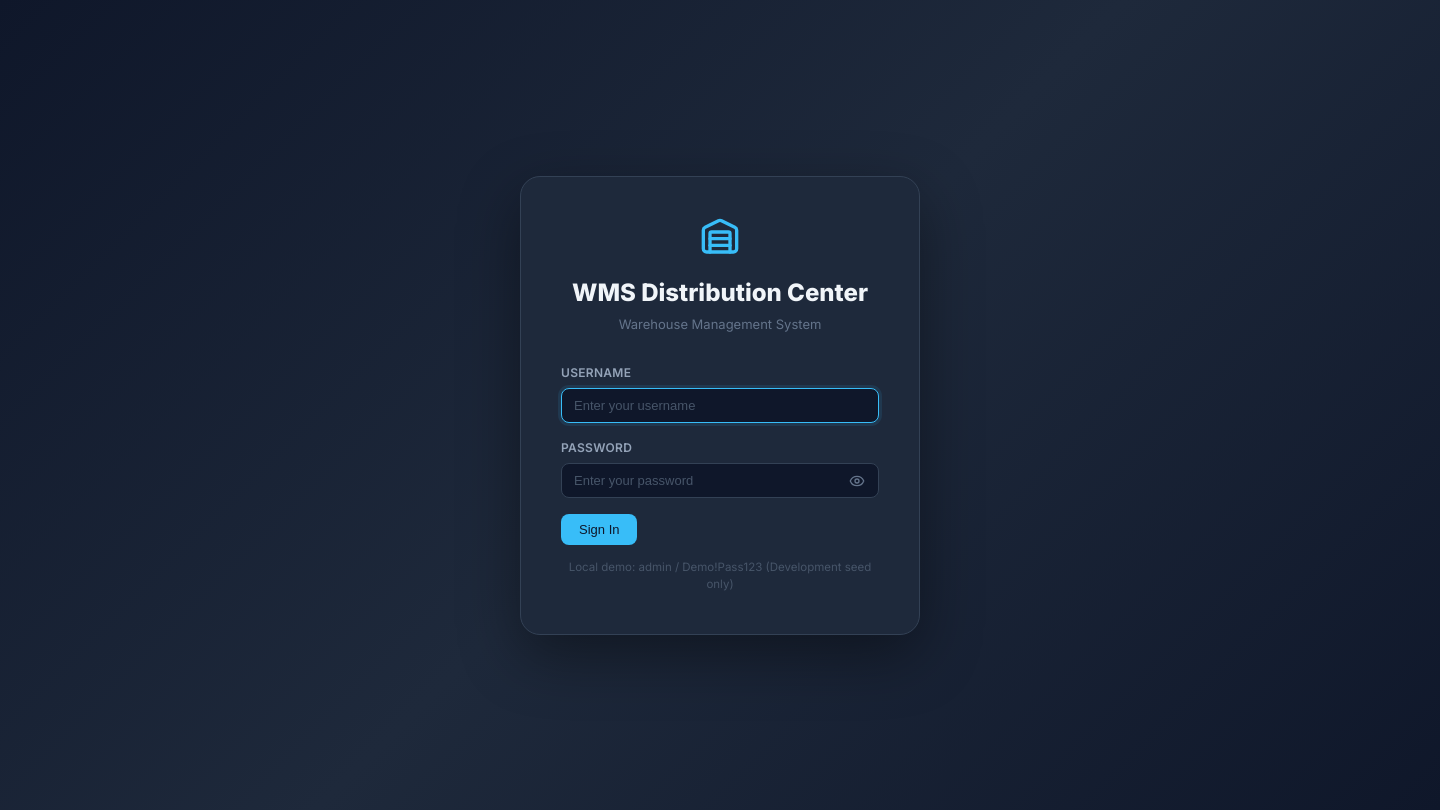
it: Login page › shows a clear message for wrong credentials
The width and height of the screenshot is (1440, 810).
In the field labelled "Username": (720, 406) [561,388,879,423], type "operator"
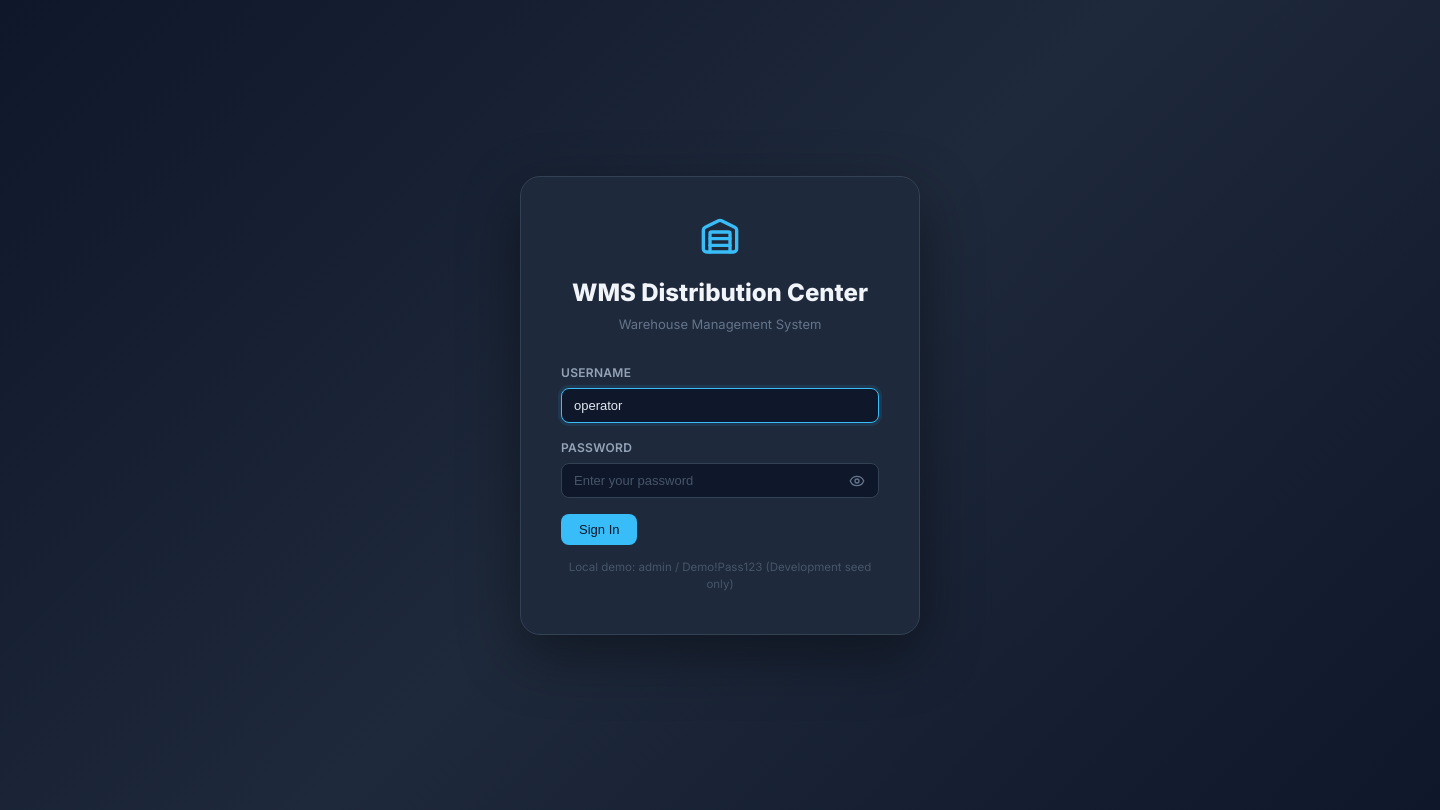
In the password field labelled "Password": (720, 480) [561,463,879,498], type "wrong"
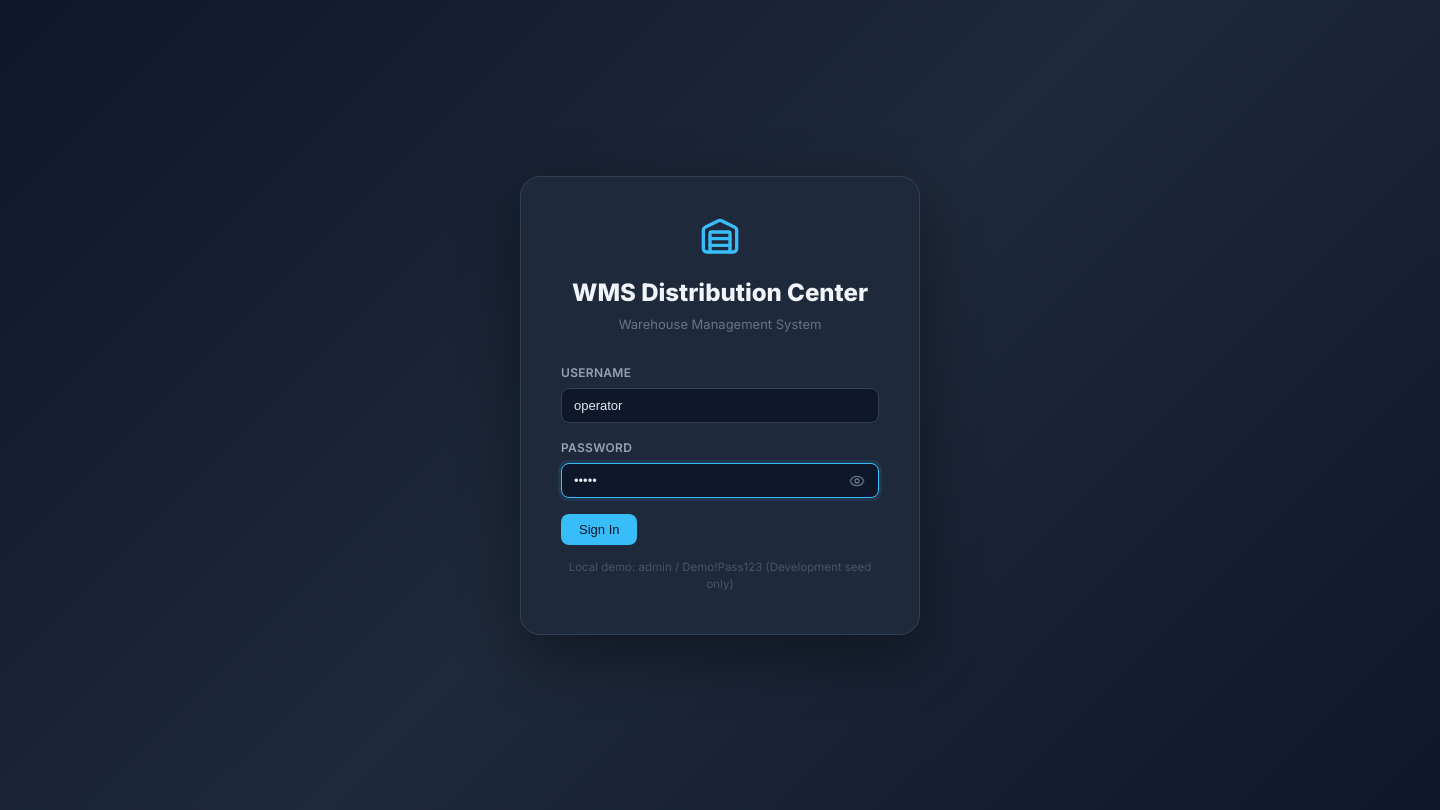
Click the button "Sign In": (599, 530) [561,514,638,545]
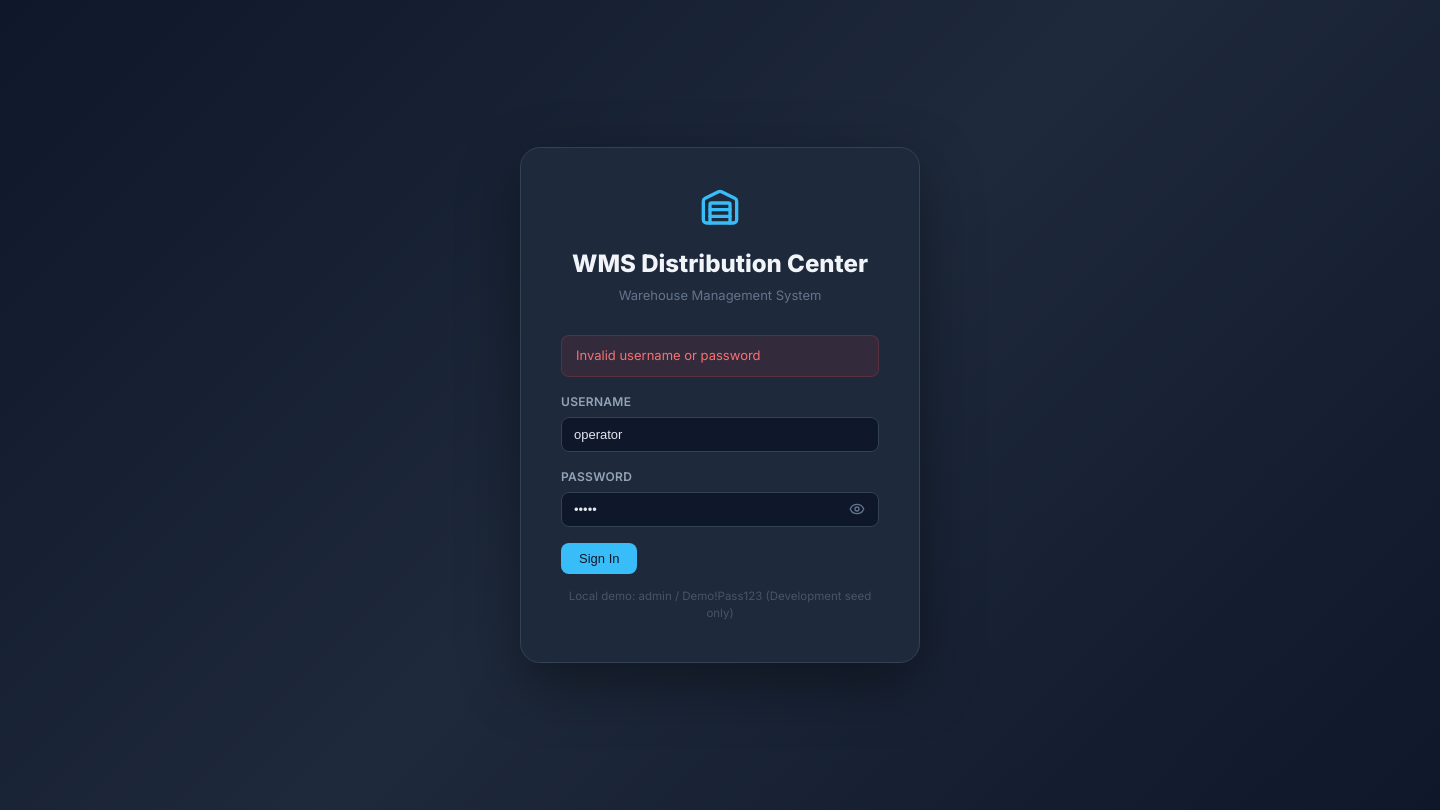
Expected: the message reads "Invalid username or password", [576,347,761,363]
